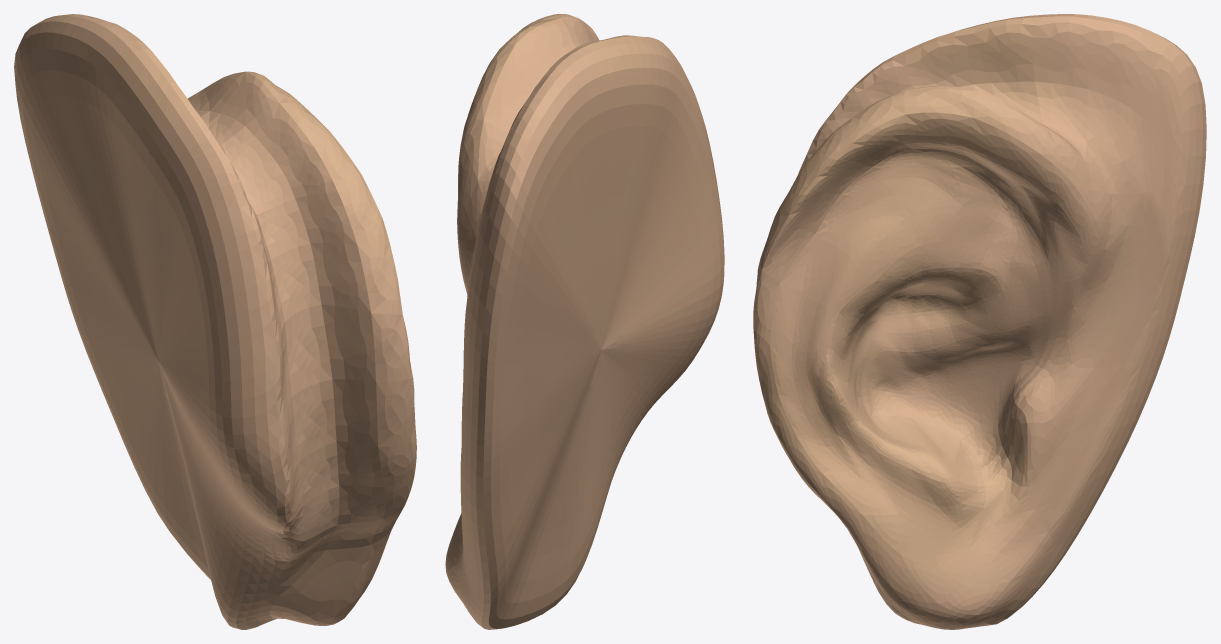
File: 3DPX-001617.glb
3 renders of one model, left to right at view 1: azimuth 30°, elevation 25°; view 2: azimuth 150°, elevation 25°; view 3: azimuth 270°, elevation 25°, orthographic. The views are drawn at different scales.
Visible parts, largest first — view 1: wrltestearnih-pymesh; view 2: wrltestearnih-pymesh; view 3: wrltestearnih-pymesh.
Boxes of the visible parts, left/top/right/bottom form: wrltestearnih-pymesh: left=14, top=14, right=416, bottom=629; wrltestearnih-pymesh: left=445, top=14, right=724, bottom=629; wrltestearnih-pymesh: left=753, top=14, right=1206, bottom=629.
Size of the model in its own units: 0.3151 by 0.8996 by 0.6588.
